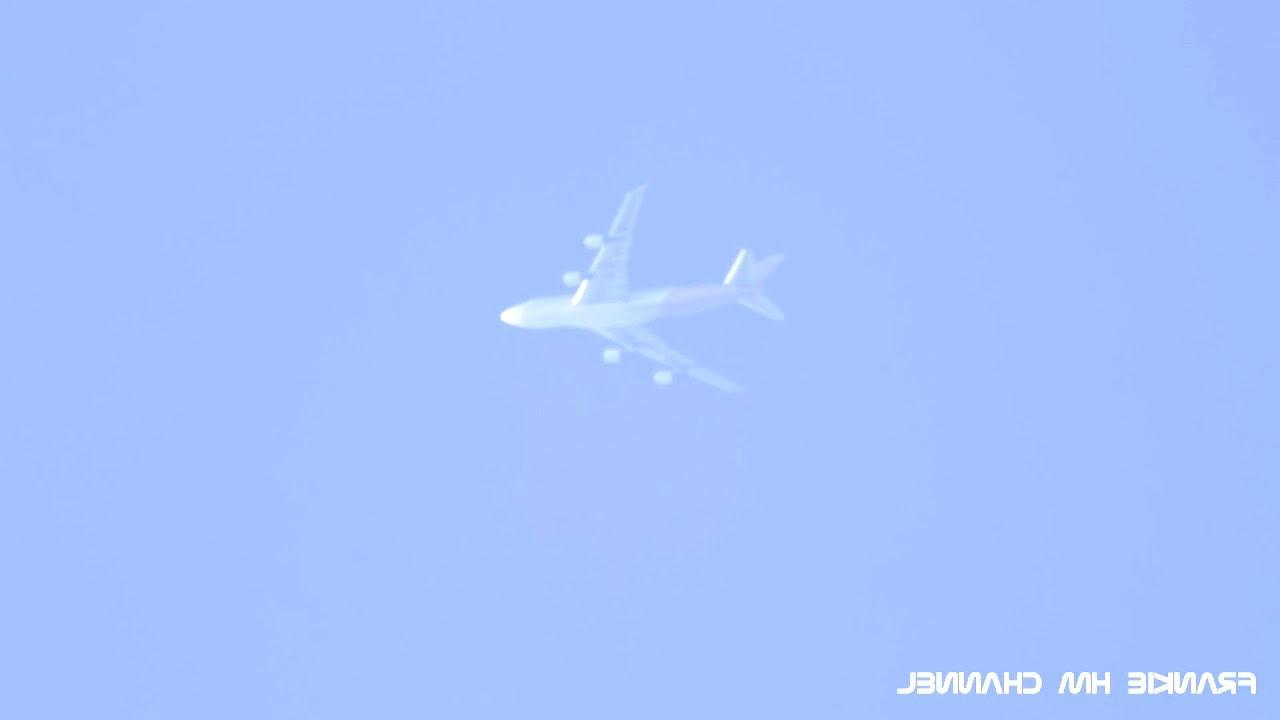Plane: (425, 172, 847, 414)
